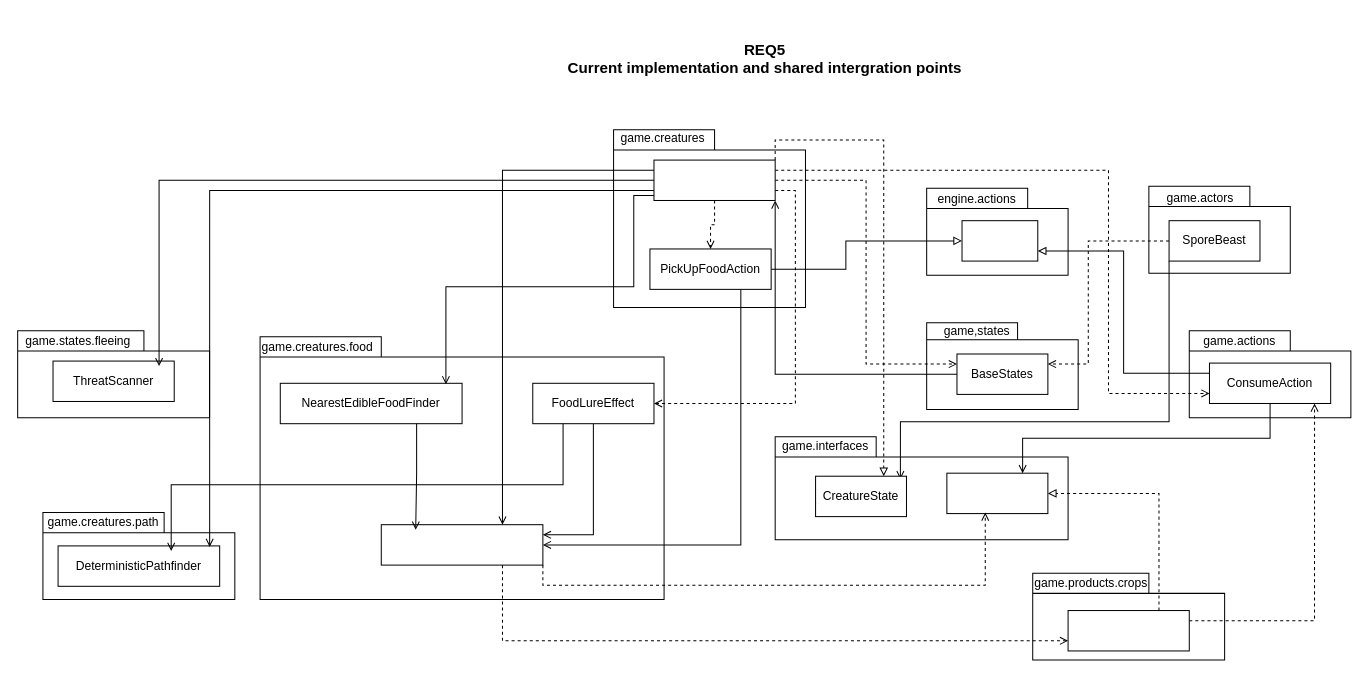
Some shapes in this 1369 by 678 pixel diagram are drawn without their labels. Here are the shapes that lost their labels. From the top down, the centre of each, then its label:
At pixel 714 179: "ForagingState".
At pixel 999 240: "Action".
At pixel 997 493: "Consumable".
At pixel 461 544: "EdibleFoodFilter".
At pixel 1128 630: "ConsumableProduce".
